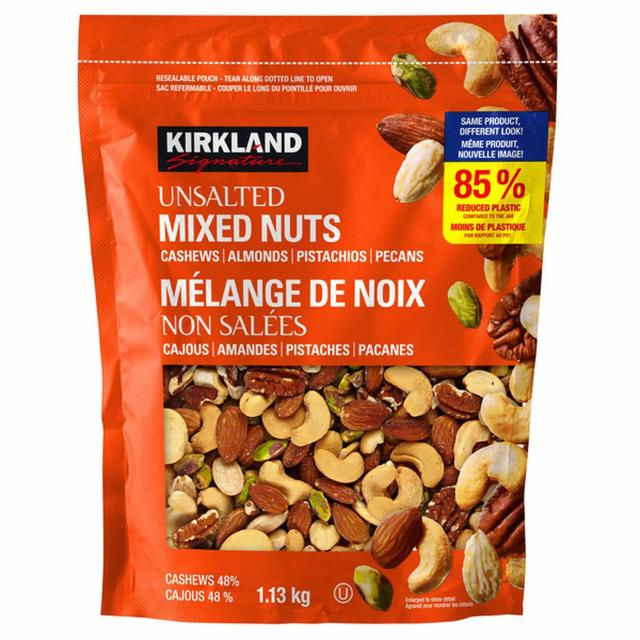food-package: (103, 26, 537, 621)
